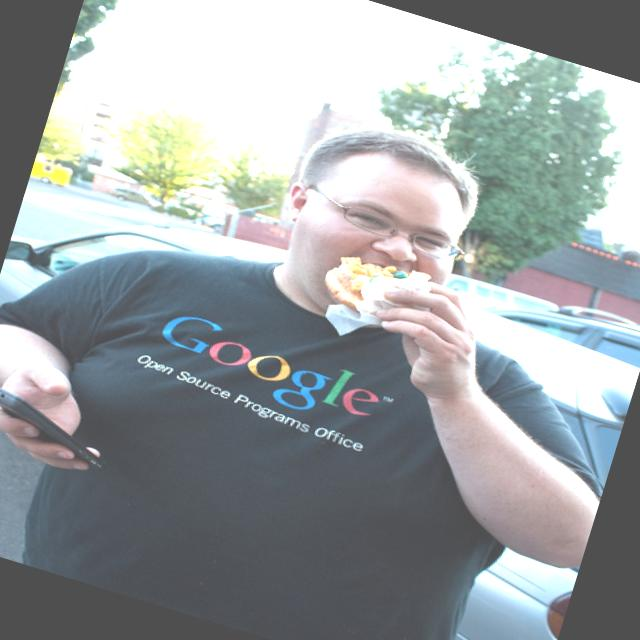Vehicle: (0, 168, 640, 640), (474, 277, 640, 367), (106, 182, 160, 212), (197, 210, 227, 234)
